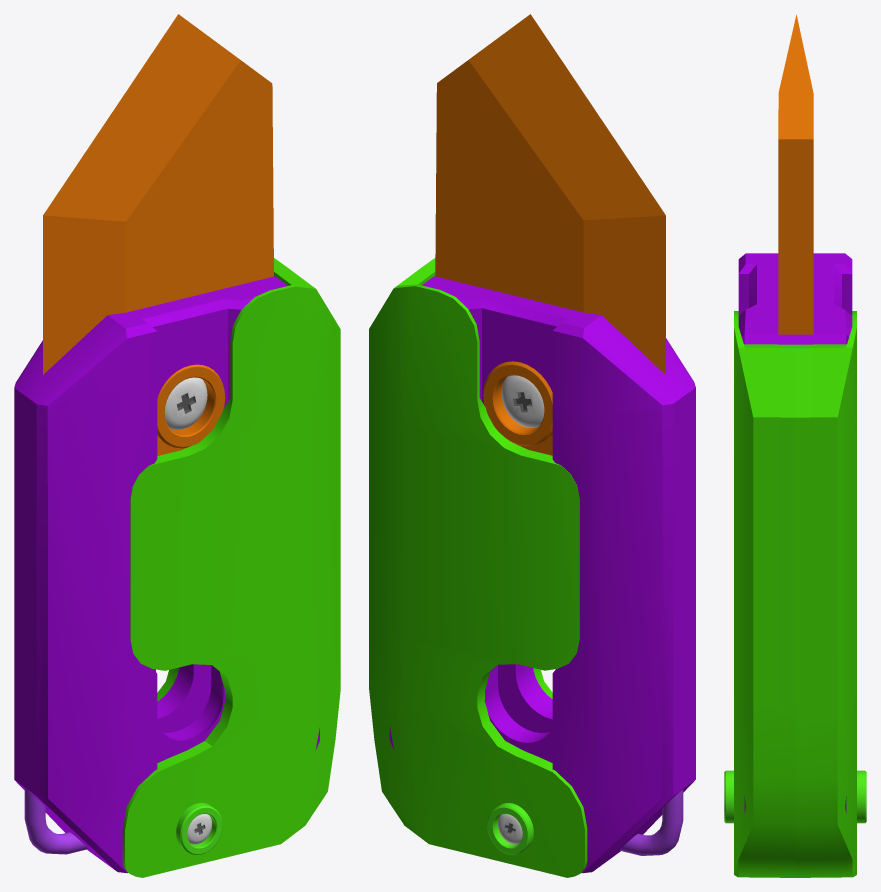
The model's file is carrotknife.fbx.
The picture shows the model from 3 angles, left to right: view 1: azimuth 30°, elevation 25°; view 2: azimuth 150°, elevation 25°; view 3: azimuth 270°, elevation 25°; orthographic projection.
Parts seen in each view (by area): view 1: knifeGrab, knifeBody, knife, screw, knifeBodystring; view 2: knifeGrab, knifeBody, knife, screw.001, knifeBodystring; view 3: knifeGrab, knife, knifeBody, screw, screw.001.
Boxes of the visible parts, box(x1,y1,x2,y2) form: knifeGrab: box(122, 258, 340, 877); knifeBody: box(14, 276, 319, 873); knife: box(43, 14, 273, 455); screw: box(176, 803, 222, 854); knifeBodystring: box(24, 788, 87, 854); knifeGrab: box(369, 258, 587, 877); knifeBody: box(389, 276, 695, 873); knife: box(435, 14, 665, 455); screw.001: box(487, 803, 533, 854); knifeBodystring: box(620, 790, 683, 855); knifeGrab: box(734, 311, 856, 877); knife: box(778, 14, 813, 334); knifeBody: box(738, 253, 852, 813); screw: box(724, 770, 733, 823); screw.001: box(857, 770, 866, 823).
Bounding box in the file's own units: 113 × 303 × 47.33.
